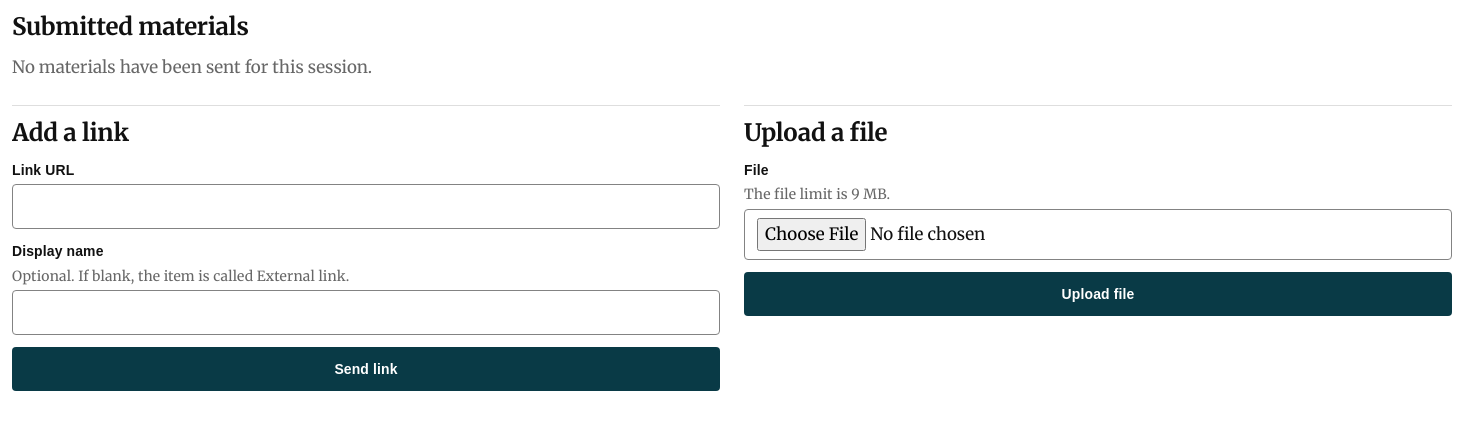
it: SpeakerSessionMaterials › shows a server refusal for a foreign session
Expected: the text "No materials have been sent for this session." is shown, top-left (12, 56), bottom-right (372, 78)
Type "https://example.org/slides" into the field labelled "Link URL".
click(366, 207); type("https://example.org/slides")  # box top-left (12, 184), bottom-right (720, 229)
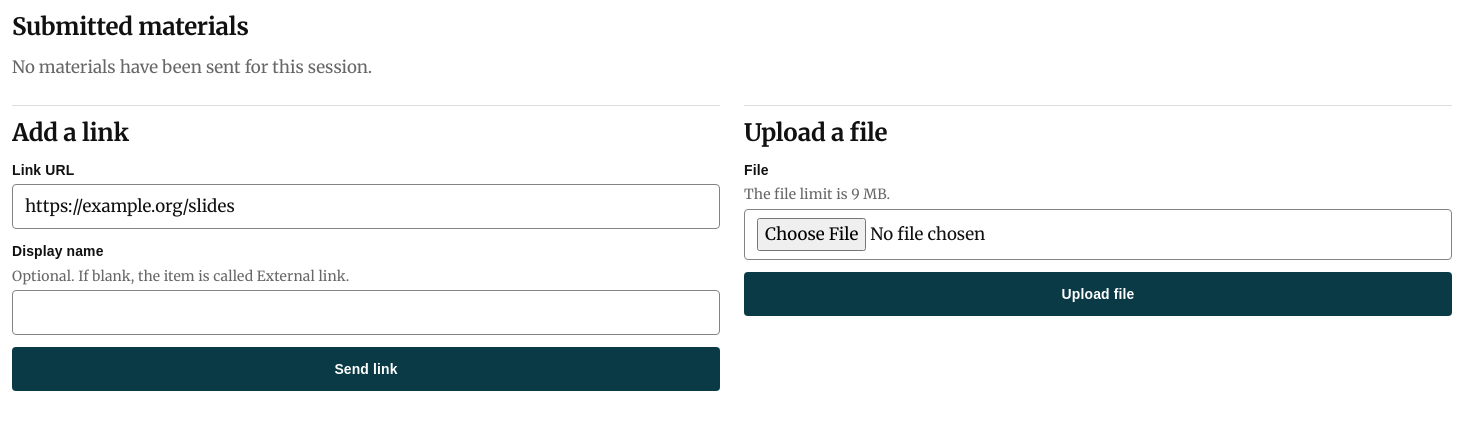
Click the button "Send link".
click(366, 369)  # box top-left (12, 347), bottom-right (720, 391)
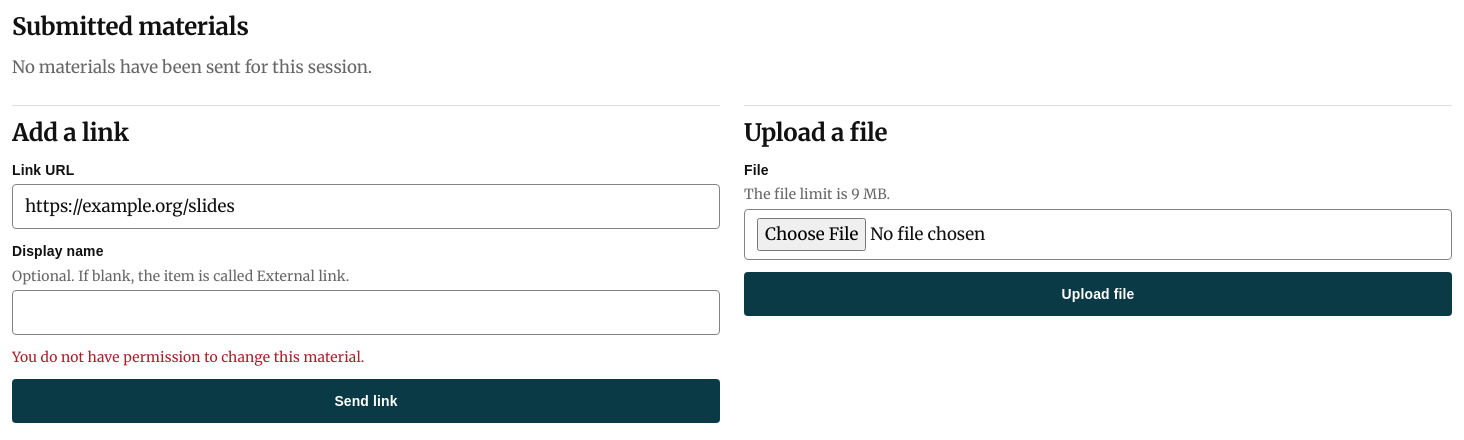
Expected: the message shows "do not have permission", top-left (12, 348), bottom-right (364, 366)
